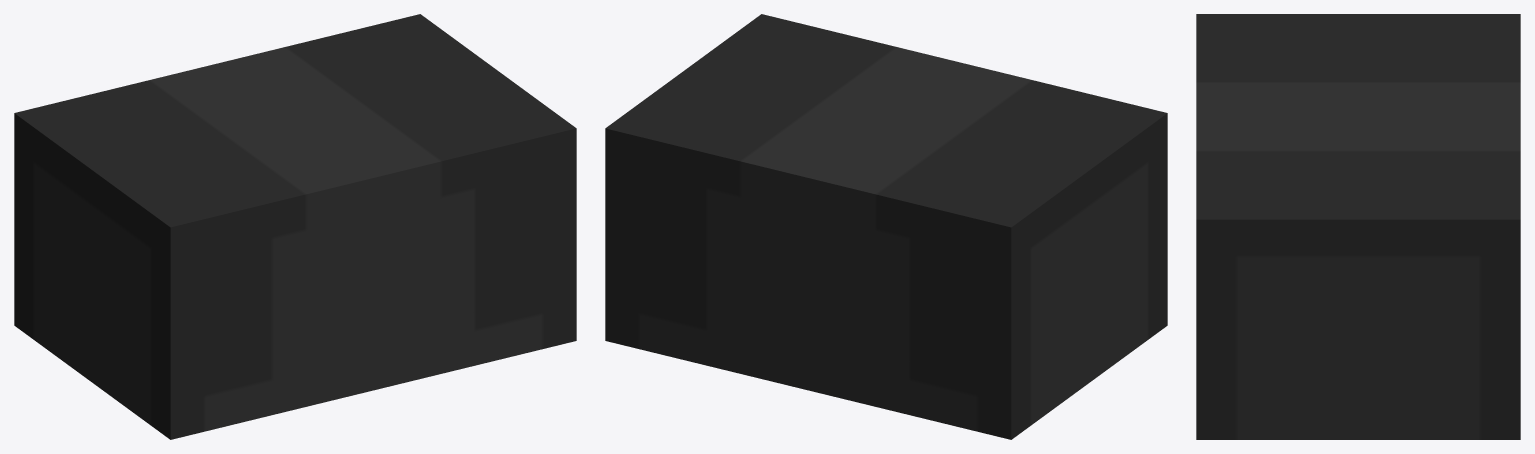
File: Spine014.fbx
3 views of the same model, side by side, from view 1: azimuth 30°, elevation 25°; view 2: azimuth 150°, elevation 25°; view 3: azimuth 270°, elevation 25° (orthographic). The views are drawn at different scales.
Parts seen in each view (by area): view 1: Spine014; view 2: Spine014; view 3: Spine014.
Part boxes in pixels (x1=…): Spine014: x1=14, y1=14, x2=576, y2=439; Spine014: x1=605, y1=14, x2=1167, y2=439; Spine014: x1=1196, y1=14, x2=1520, y2=439.
Bounding box in the file's own units: 12 × 6 × 8.
